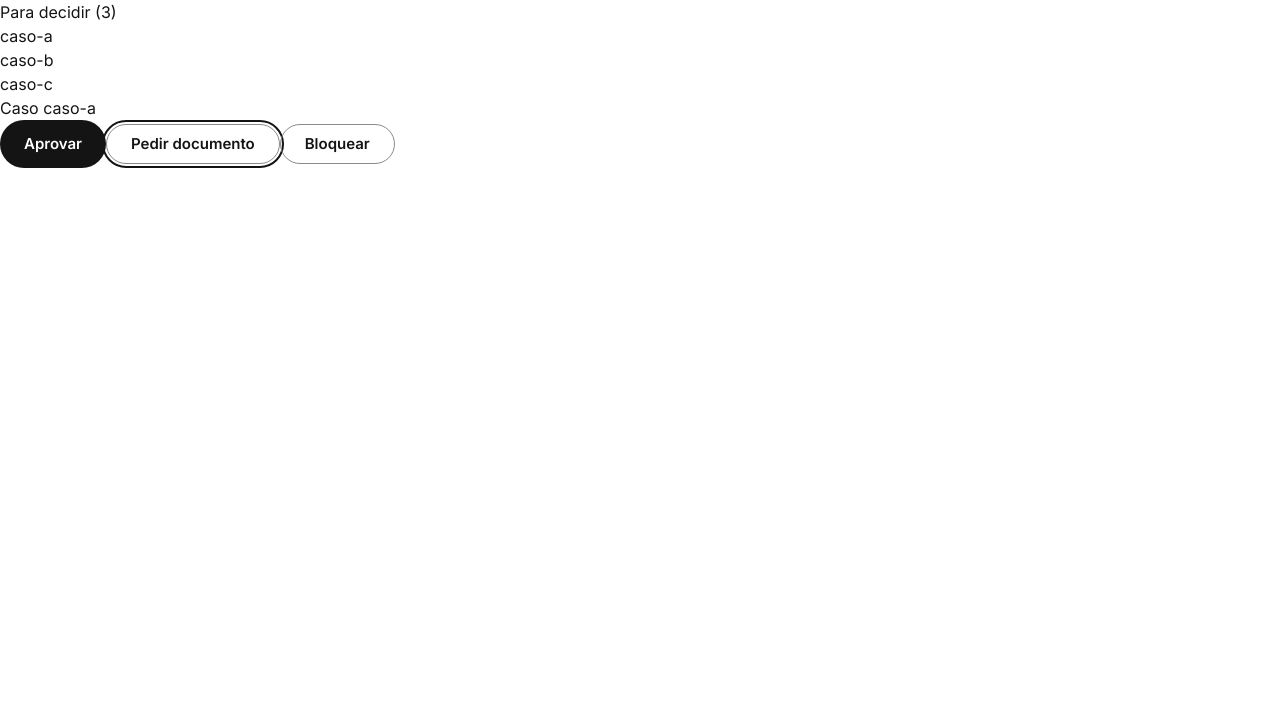
Test: Pedir documento dialog (T108; AC 36, AC 37; D10, D11; F5, F6, F7) › without a seller e-mail: doc.noemail.lead first (AC 37)
Click the button "Pedir documento" at point(193, 144), box [106, 124, 280, 164]
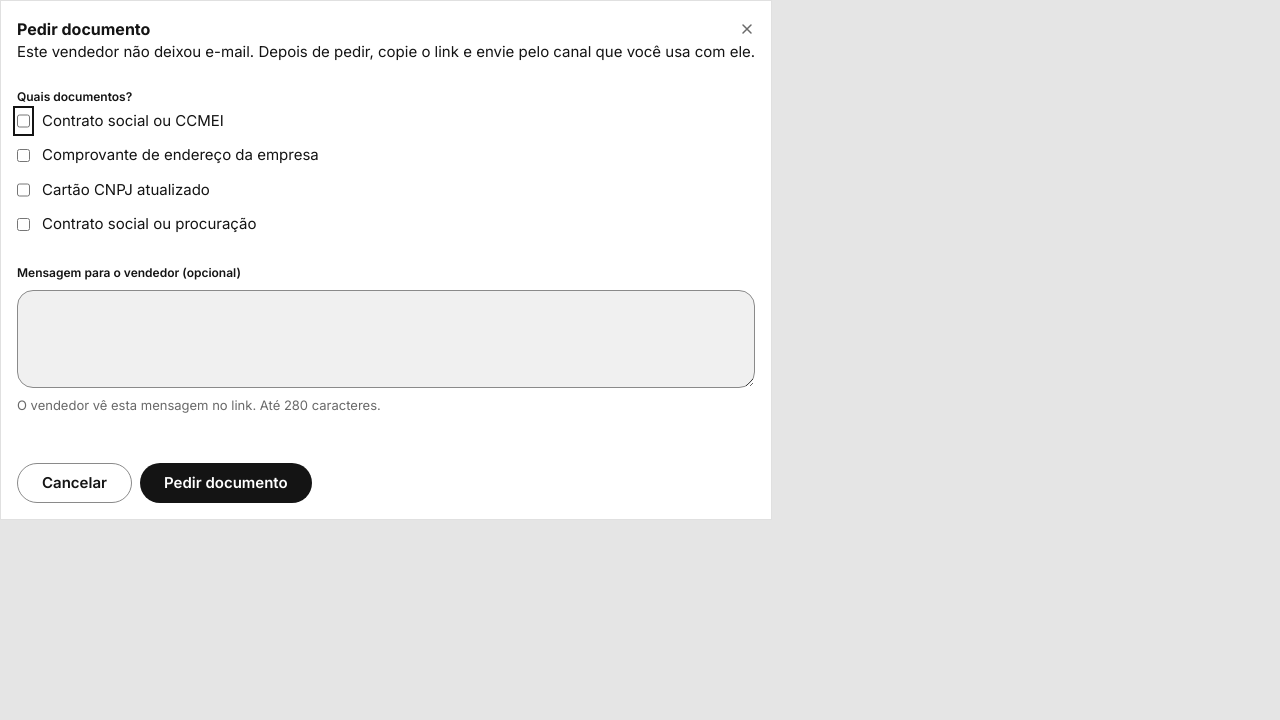
Check: the text "Este vendedor não deixou e-mail. Depois de pedir, copie o link e envie pelo canal que você usa com ele." is shown, box [17, 42, 755, 61]
